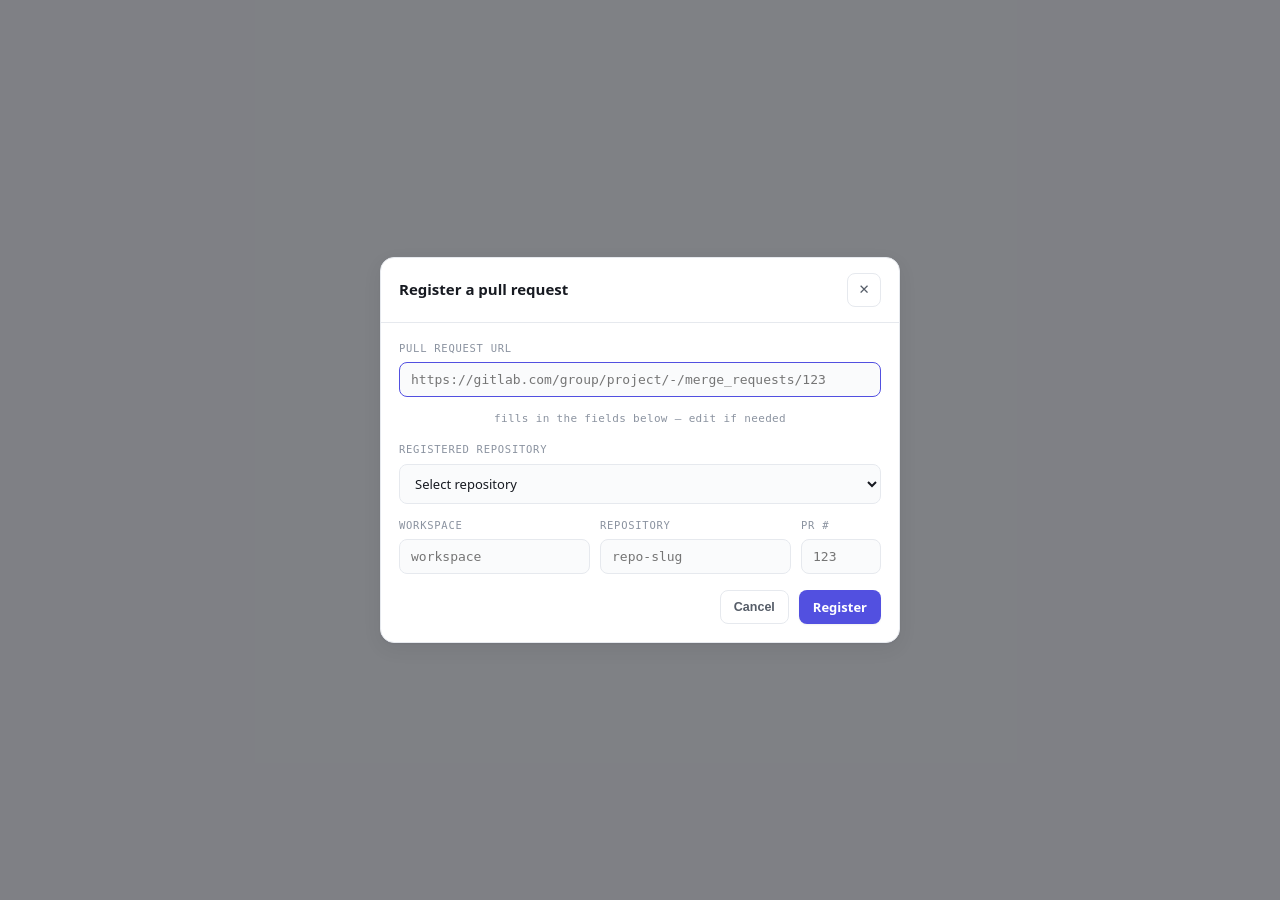
Test case: RegisterPrDialog — form › fills the fields from a resolved pull request URL
Type "https://github.example.invalid/acme/widgets/pull/7" into the field labelled "Pull request URL" at (640, 380), box [399,362,881,397]
Wait 300 ms
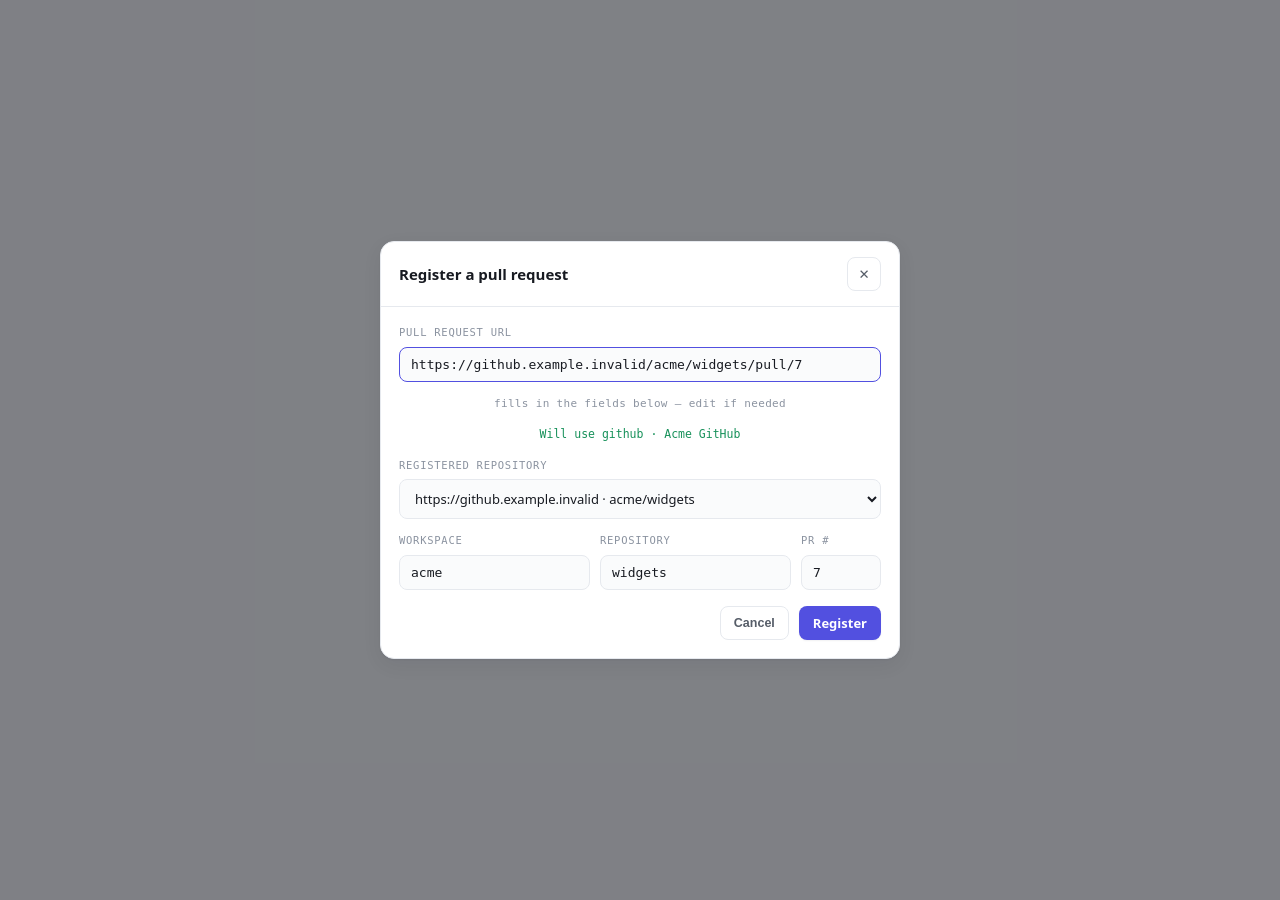
Now the field labelled "Workspace" holds "acme", box [399,555,590,590]
Now the field labelled "Repository" holds "widgets", box [600,555,791,590]
Now the field labelled "PR #" holds "7", box [801,555,881,590]
